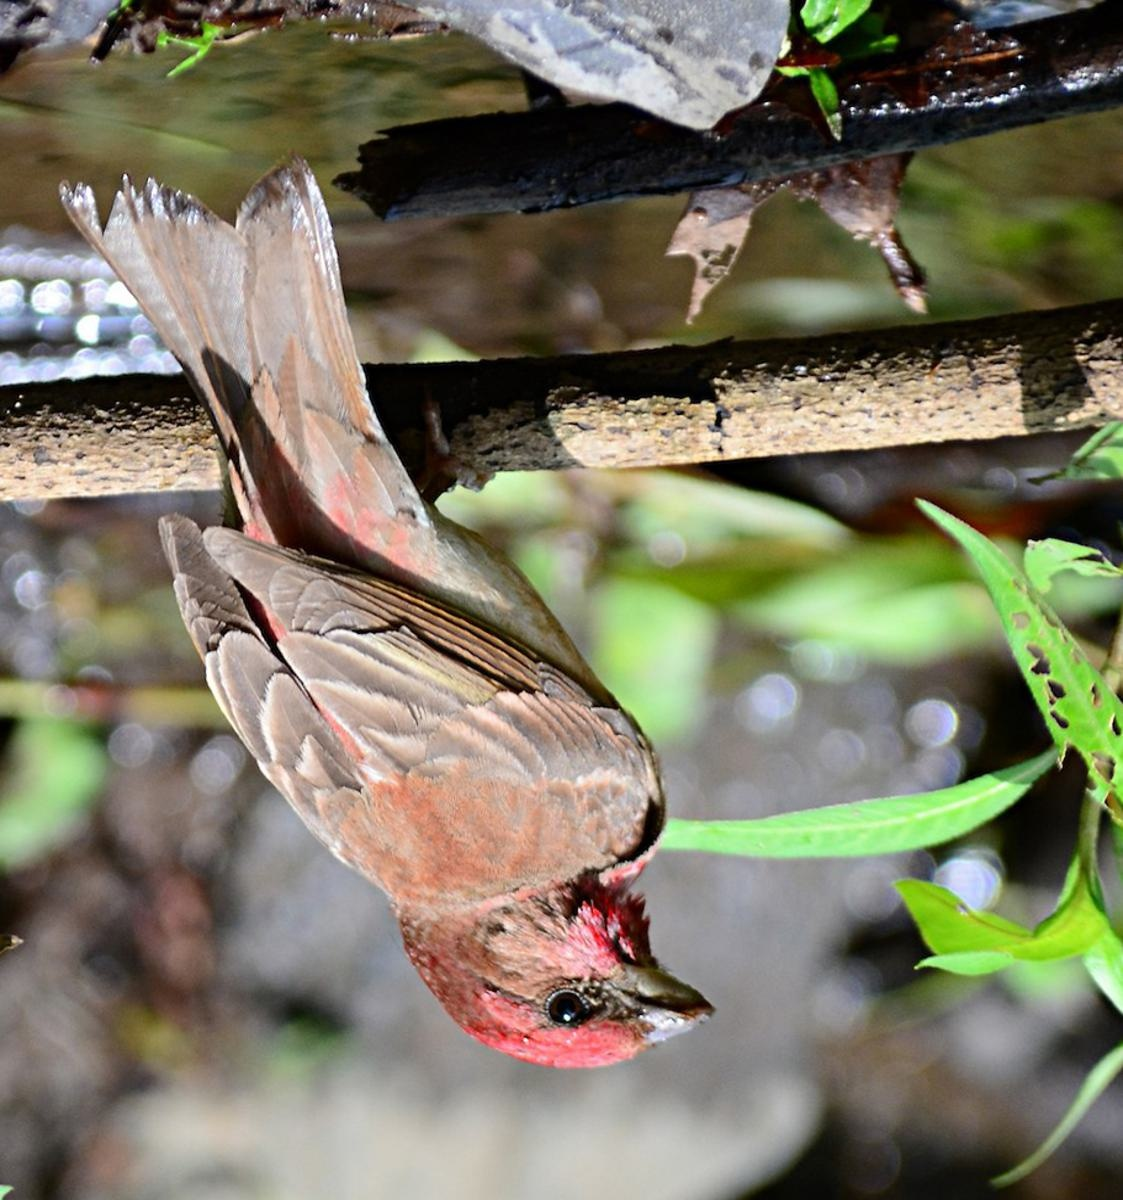rosefinch: (118, 172, 761, 1088)
